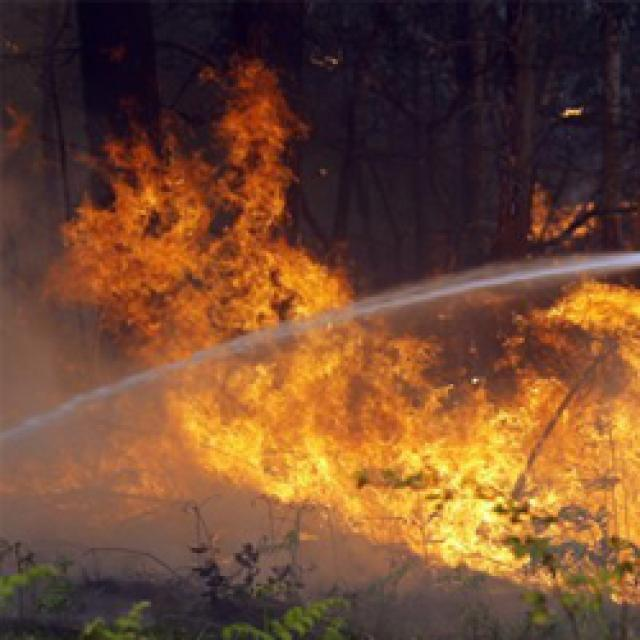Fire: (53, 56, 390, 544), (384, 276, 640, 606), (8, 429, 168, 532), (530, 186, 596, 247), (0, 104, 31, 149), (558, 107, 582, 120)
Smoke: (0, 158, 52, 434), (284, 513, 384, 600), (170, 488, 272, 566)
